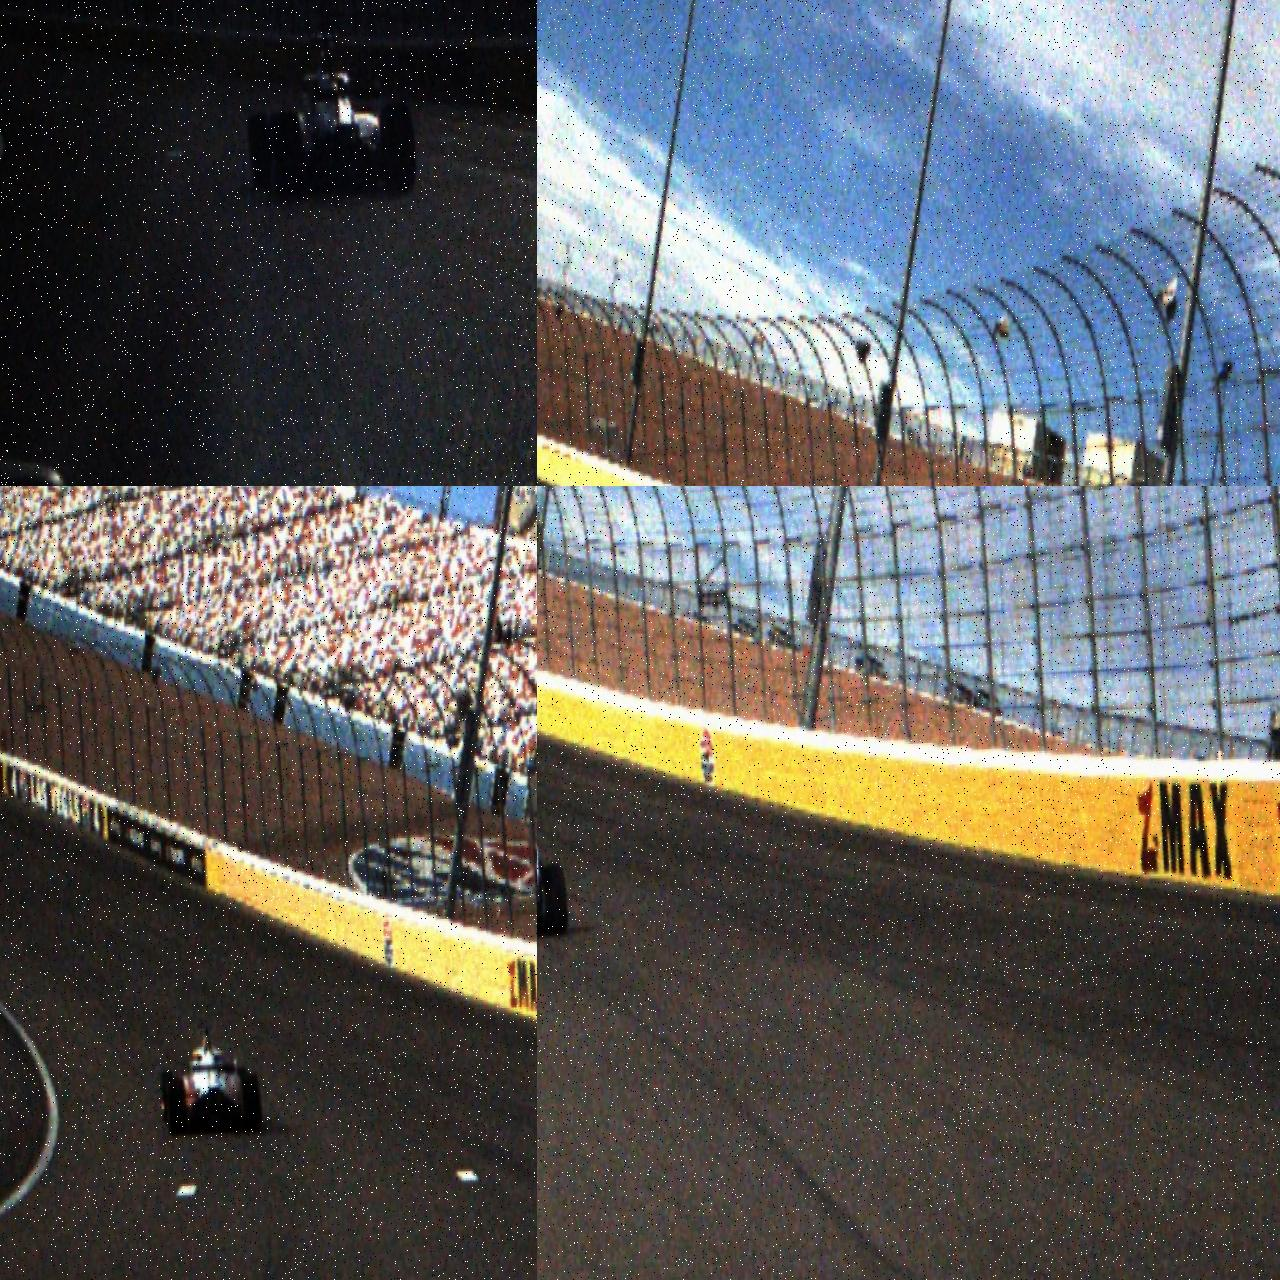AV: (243, 25, 418, 204), (156, 1019, 263, 1138), (537, 799, 568, 942)
Wheel: (381, 102, 417, 197), (267, 111, 304, 203), (247, 113, 274, 191), (543, 862, 568, 937), (243, 1071, 263, 1133), (166, 1077, 188, 1136), (159, 1070, 175, 1122)
